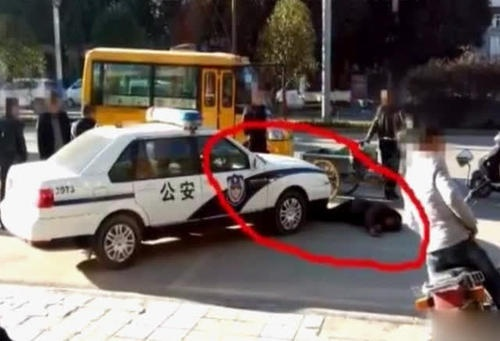falling: (294, 185, 409, 240)
